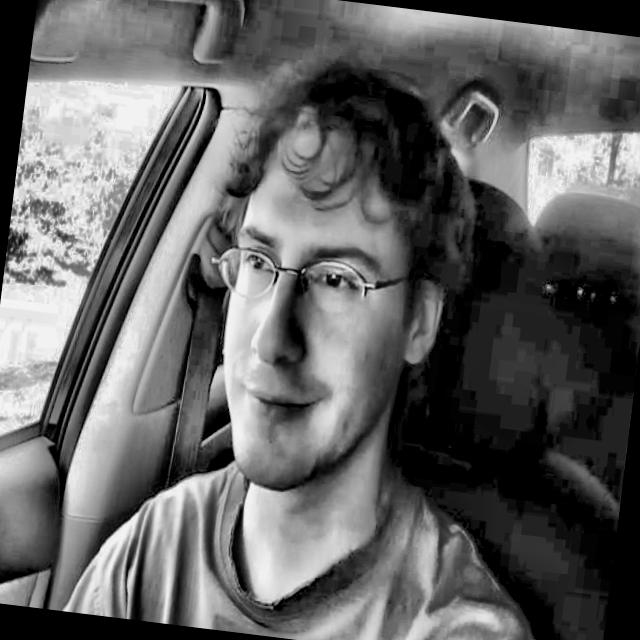closed_mouth: (228, 371, 338, 443)
open_eyes: (304, 259, 368, 307), (224, 242, 282, 293)
